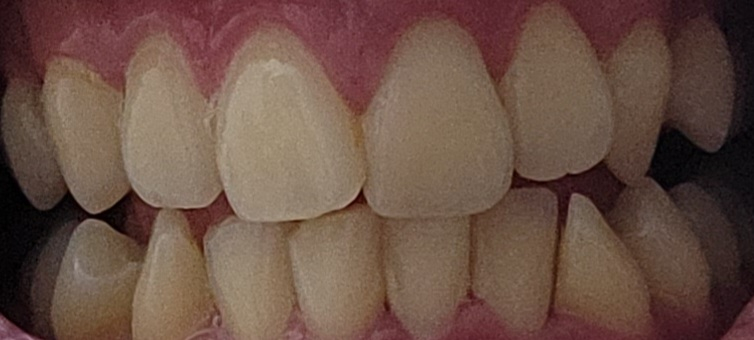teeth: (363, 18, 505, 212), (218, 28, 356, 215), (509, 8, 608, 173), (121, 45, 210, 208), (560, 199, 649, 335), (477, 194, 557, 329), (625, 181, 707, 310), (44, 66, 118, 206), (301, 213, 382, 338), (610, 20, 671, 185), (384, 219, 468, 336), (130, 215, 208, 332), (209, 227, 286, 339)
